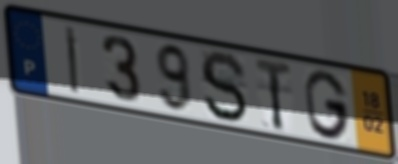3: (100, 34, 145, 105)
9: (153, 41, 194, 115)
G: (302, 67, 352, 142)
I: (63, 23, 81, 97)
S: (197, 48, 251, 125)
T: (252, 55, 294, 134)
